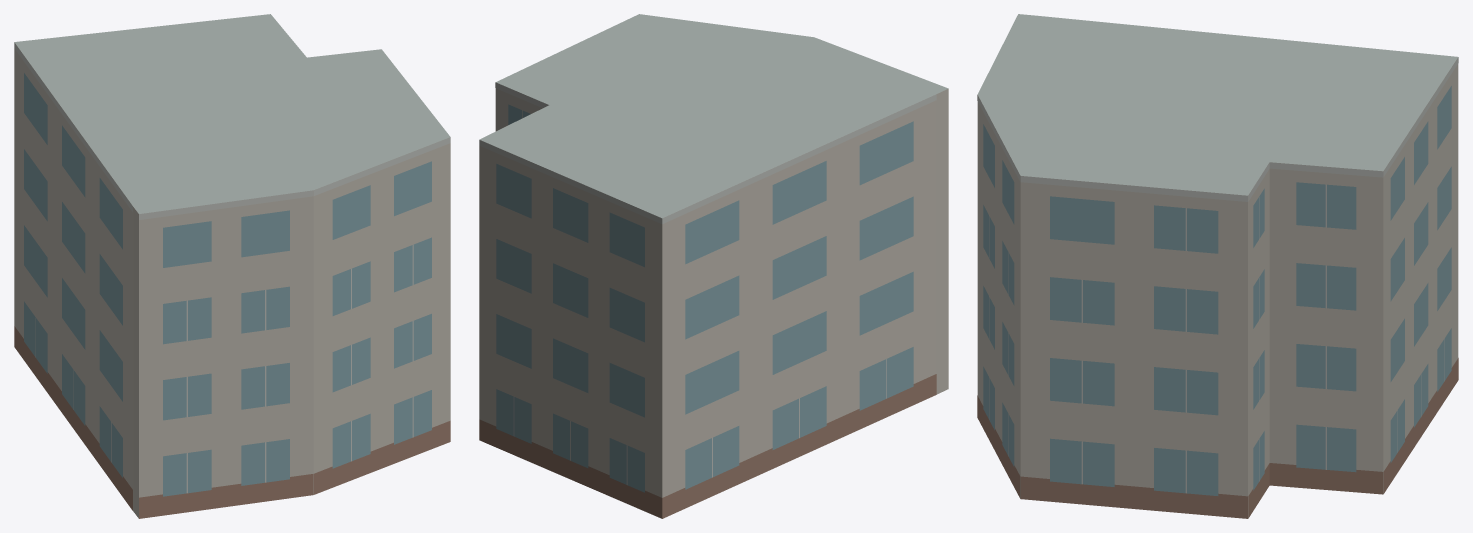
The model's file is survey-upis-32472313.glb.
The picture shows the model from 3 angles, left to right: view 1: azimuth 30°, elevation 25°; view 2: azimuth 150°, elevation 25°; view 3: azimuth 270°, elevation 25°; orthographic projection. The views are drawn at different scales.
Parts seen in each view (by area): view 1: survey-upis-32472313.tmp; view 2: survey-upis-32472313.tmp; view 3: survey-upis-32472313.tmp.
Part boxes in pixels (left/top/right/bottom): survey-upis-32472313.tmp: left=14, top=14, right=450, bottom=518; survey-upis-32472313.tmp: left=479, top=14, right=948, bottom=518; survey-upis-32472313.tmp: left=977, top=14, right=1458, bottom=518.
Bounding box in the file's own units: 14.96 × 12.4 × 16.73.
